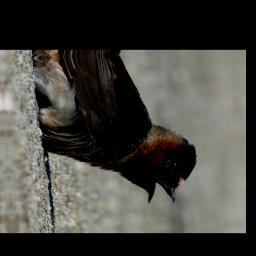Swallow: (30, 52, 201, 210)
